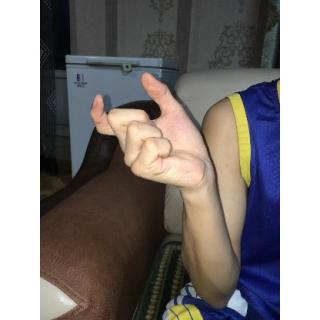NOON: (87, 70, 211, 196)
